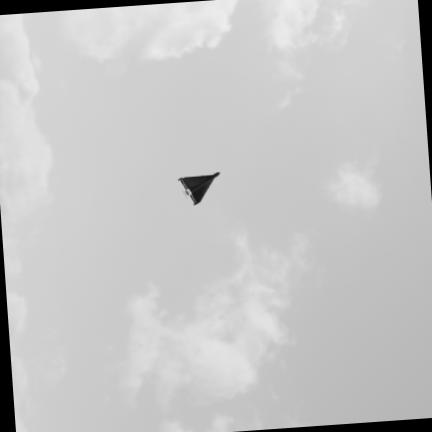Shahed: (178, 173, 218, 204)
